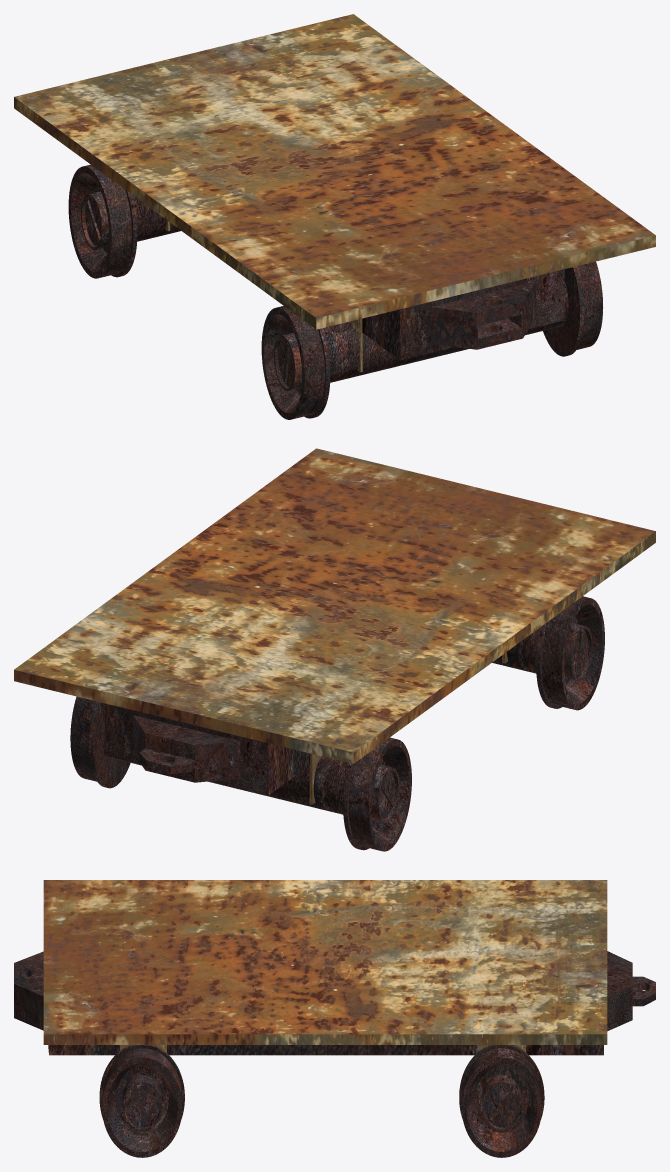
Rendered from vagonetka-2.fbx.
The picture shows the model from 3 angles, top to bottom: view 1: azimuth 30°, elevation 25°; view 2: azimuth 150°, elevation 25°; view 3: azimuth 270°, elevation 25°; orthographic projection. The views are drawn at different scales.
Parts seen in each view (by area): view 1: Cube.004; view 2: Cube.004; view 3: Cube.004.
Part boxes in pixels (box(x1,y1,x2,y2)): Cube.004: box(14, 14, 655, 419); Cube.004: box(14, 448, 655, 851); Cube.004: box(14, 880, 655, 1157).
Size of the model in its own units: 124 by 51.07 by 218.
